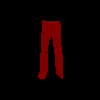jeans: (37, 20, 62, 79)
